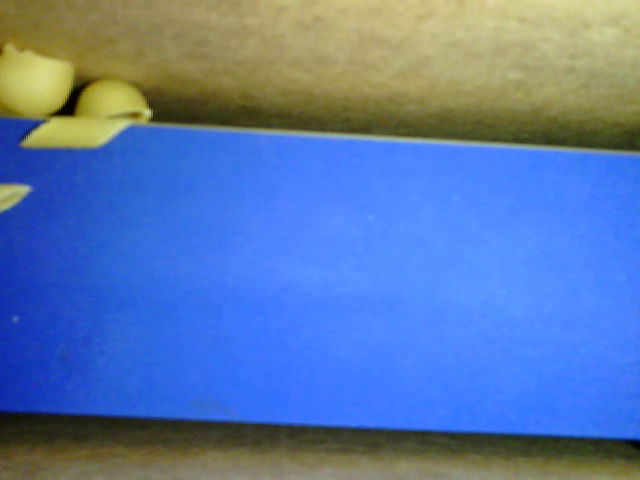penne: (20, 117, 134, 147)
shell: (1, 42, 72, 116), (74, 78, 153, 125)
